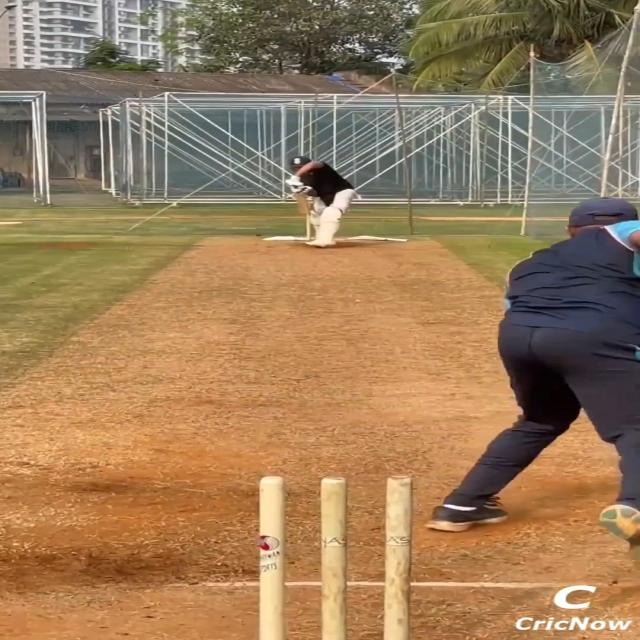stump: (258, 474, 412, 640)
